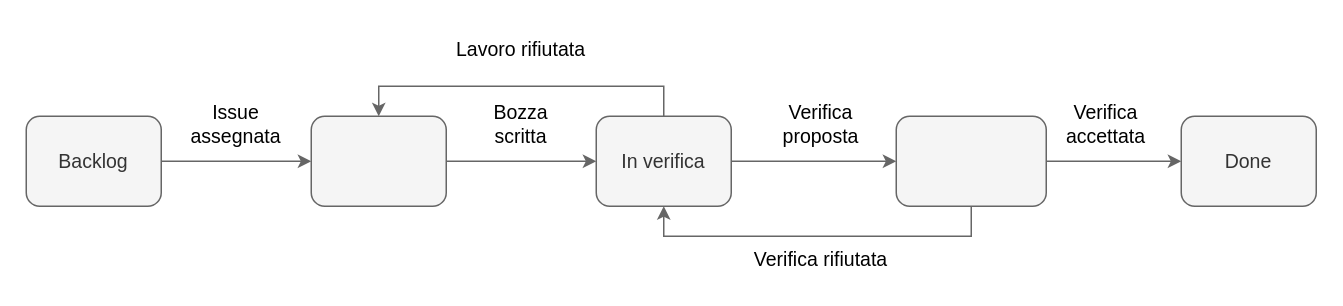
Some shapes in this 1343 by 306 pixel diagram are drawn without their labels. Here are the shapes that lost their labels. From the top down, the centre of each, then its label:
At point (378, 160): "In lavorazione".
At point (970, 160): "In approvazione".
